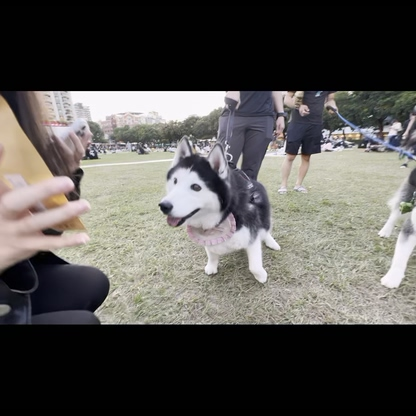husky: (153, 130, 284, 288)
